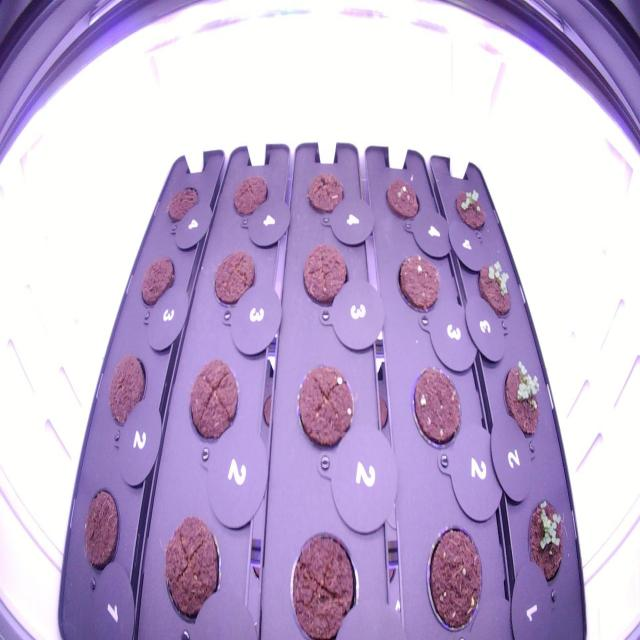germination: (408, 357, 466, 453), (520, 491, 570, 596), (497, 355, 548, 447), (392, 244, 445, 322), (472, 253, 522, 328), (448, 179, 491, 235), (381, 176, 424, 230)
pod: (283, 526, 367, 639), (418, 516, 488, 638), (158, 512, 228, 632), (289, 352, 358, 453), (183, 351, 242, 454), (78, 478, 124, 584), (296, 233, 352, 316), (104, 344, 148, 438), (208, 245, 259, 318), (297, 166, 348, 223), (136, 248, 179, 313), (229, 166, 272, 228), (162, 181, 202, 236)
